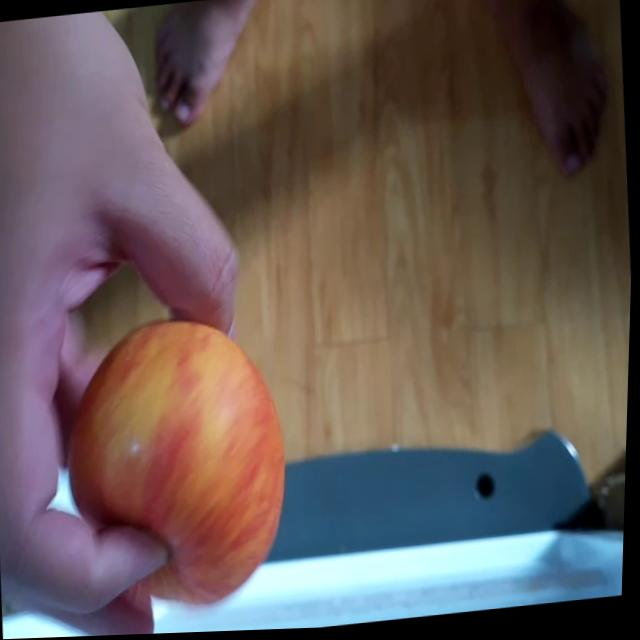apple: (54, 315, 297, 606)
